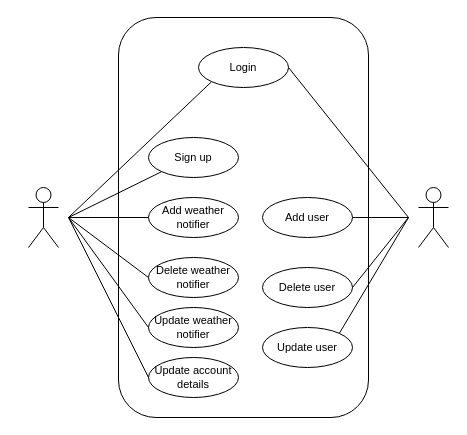
Some shapes in this 467 by 435 pixel diagram are drawn without their labels. Here are the shapes that lost their labels. From the top down, the centre of each, then its label:
At pixel 43 217: "Customer".
At pixel 433 217: "Admin".
